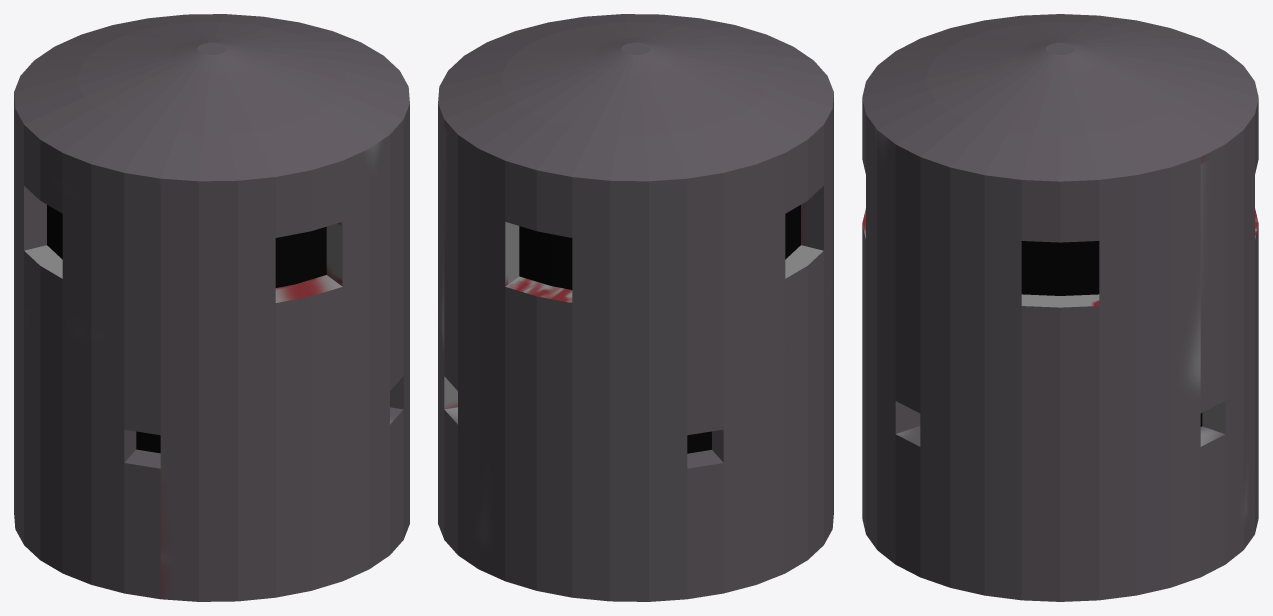
Rendered from buncker.fbx.
3 views of the same model, side by side, from view 1: azimuth 30°, elevation 25°; view 2: azimuth 150°, elevation 25°; view 3: azimuth 270°, elevation 25° (orthographic).
Parts seen in each view (by area): view 1: Cylinder; view 2: Cylinder; view 3: Cylinder.
Part boxes in pixels (left/top/right/bottom): Cylinder: left=14, top=14, right=409, bottom=601; Cylinder: left=438, top=14, right=833, bottom=601; Cylinder: left=862, top=14, right=1258, bottom=601.
Size of the model in its own units: 8.69 by 11.34 by 8.69.
Materials: 1 (1 with a texture image).
